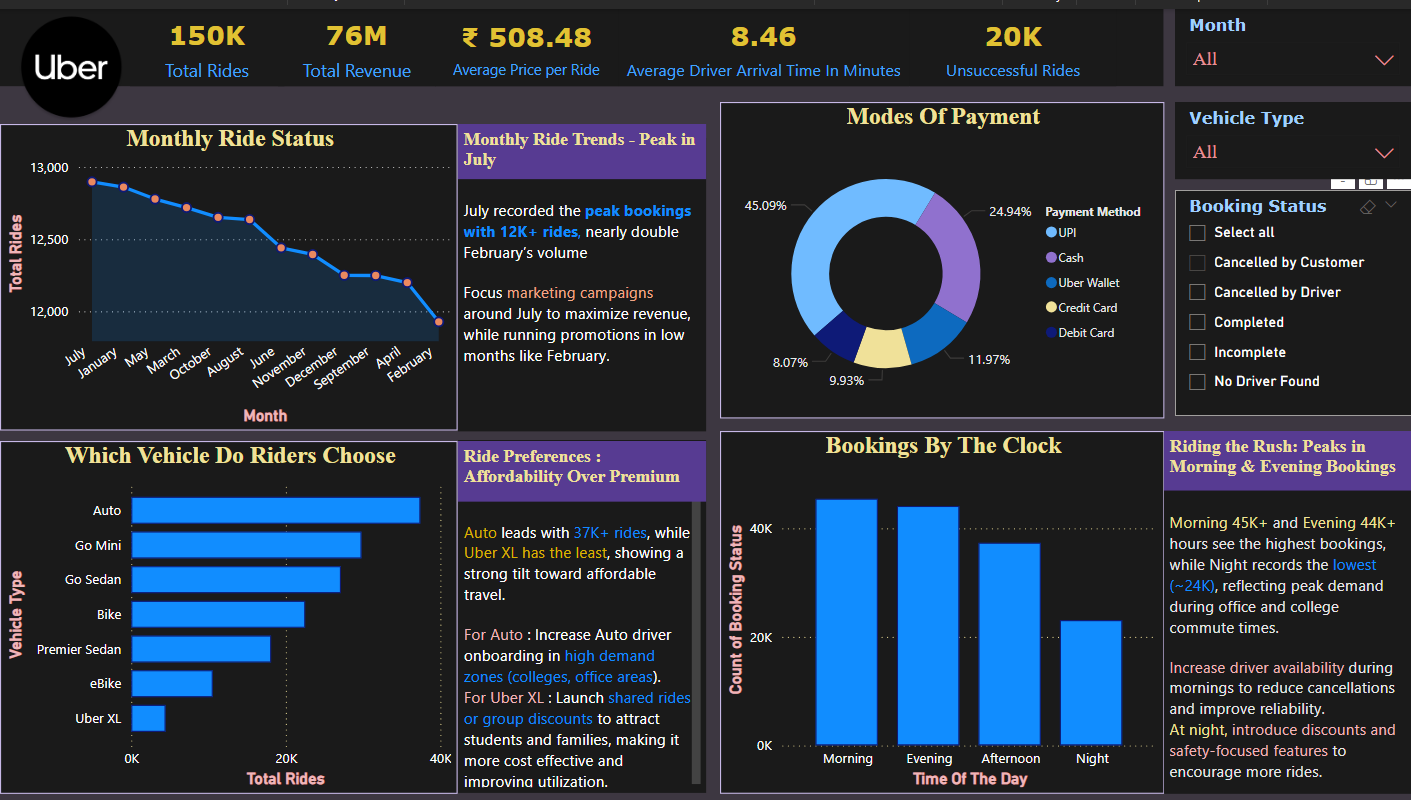

What the dashboard file says about the page in this screenshot:
{"tool":"powerbi","page":{"name":"Page 1","canvas":[1280,720],"ordinal":0},"visuals":[{"type":"textbox","box":[0,0,1055.3,70.4],"z":0},{"type":"card","fields":{"Values":["Avg(Uberr.Avg VTAT)"]},"box":[560.6,0,264.4,70.4],"z":1000},{"type":"lineChart","title":"Monthly Ride Status","fields":{"Category":["Uberr.Month"],"Y":["CountNonNull(Uberr.Booking Status)"]},"box":[0,104.4,415.3,278],"z":2000},{"type":"clusteredColumnChart","title":"Bookings By The Clock","fields":{"Category":["Uberr.Time Of The Day"],"Y":["CountNonNull(Uberr.Booking Status)"]},"box":[652.5,382.4,402.8,329.1],"z":3000},{"type":"card","fields":{"Values":["Uberr.Total Rides"]},"box":[118,0,139.6,70.4],"z":4000},{"type":"card","fields":{"Values":["Uberr.Total Revenue"]},"box":[251.9,0,143,70.4],"z":5000},{"type":"card","fields":{"Values":["Uberr.Average Price per Ride"]},"box":[394.9,0,165.7,70.4],"z":6000},{"type":"slicer","fields":{"Values":["Uberr.Month"]},"box":[1065.5,0,214.5,70.4],"z":7000},{"type":"slicer","fields":{"Values":["Uberr.Booking Status"]},"box":[1065.5,164.5,214.5,204.3],"z":8000},{"type":"slicer","fields":{"Values":["Uberr.Vehicle Type"]},"box":[1065.5,84,214.5,70.4],"z":9000},{"type":"textbox","box":[415.3,116.9,224.7,265.5],"z":10000},{"type":"textbox","box":[415.3,104.4,224.7,49.9],"z":11000},{"type":"clusteredBarChart","title":"Which Vehicle Do Riders Choose ","fields":{"Y":["Uberr.Total Rides"],"Category":["Uberr.Vehicle Type"]},"box":[0,391.5,415.3,320],"z":12000},{"type":"donutChart","title":"Modes Of Payment","fields":{"Category":["Uberr.Payment Method"],"Y":["CountNonNull(Uberr.Payment Method)"]},"box":[652.5,84,402.8,287.1],"z":13000},{"type":"image","box":[0,0,128.1,108.5],"z":14000},{"type":"textbox","box":[415,391,225,320],"z":15000},{"type":"textbox","box":[415.3,391.7,224.9,55.3],"z":16000},{"type":"textbox","box":[1055.3,382.4,224.7,329.1],"z":17000},{"type":"card","fields":{"Values":["Uberr.Total Cancelled Rides"]},"box":[825,0,187.2,70.4],"z":18000},{"type":"textbox","box":[1055.3,382.4,224.7,54.5],"z":19000}]}

Visuals, with their boxes in screenshot pixels (x1, y1, x2, y2), scaled from the page's 1280x720 canvas onto the 1411x800 screenshot:
textbox: select_region(0, 0, 1163, 78)
card - Avg(Uberr.Avg VTAT): select_region(618, 0, 909, 78)
"Monthly Ride Status" lineChart: select_region(0, 116, 458, 425)
"Bookings By The Clock" clusteredColumnChart: select_region(719, 425, 1163, 791)
card - Uberr.Total Rides: select_region(130, 0, 284, 78)
card - Uberr.Total Revenue: select_region(278, 0, 435, 78)
card - Uberr.Average Price per Ride: select_region(435, 0, 618, 78)
slicer - Uberr.Month: select_region(1175, 0, 1410, 78)
slicer - Uberr.Booking Status: select_region(1175, 183, 1410, 410)
slicer - Uberr.Vehicle Type: select_region(1175, 93, 1410, 172)
textbox: select_region(458, 130, 706, 425)
textbox: select_region(458, 116, 706, 171)
"Which Vehicle Do Riders Choose " clusteredBarChart: select_region(0, 435, 458, 791)
"Modes Of Payment" donutChart: select_region(719, 93, 1163, 412)
image: select_region(0, 0, 141, 121)
textbox: select_region(457, 434, 706, 790)
textbox: select_region(458, 435, 706, 497)
textbox: select_region(1163, 425, 1410, 791)
card - Uberr.Total Cancelled Rides: select_region(909, 0, 1116, 78)
textbox: select_region(1163, 425, 1410, 485)
